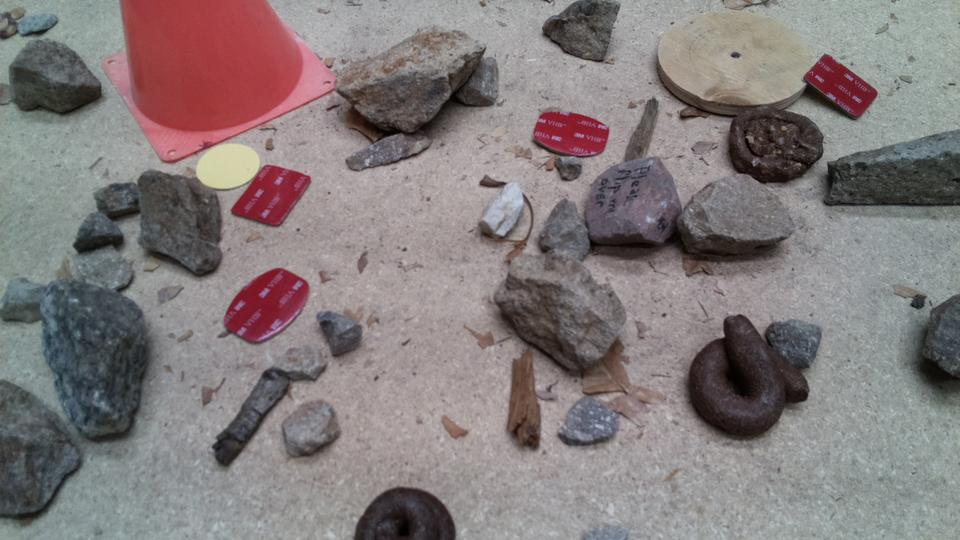poop: (685, 309, 811, 442), (724, 103, 826, 187), (349, 485, 459, 540)
